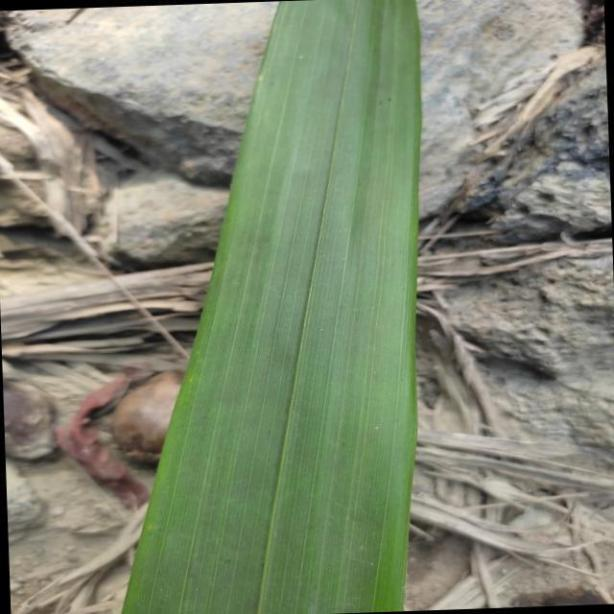Healthy: (114, 0, 418, 614)
